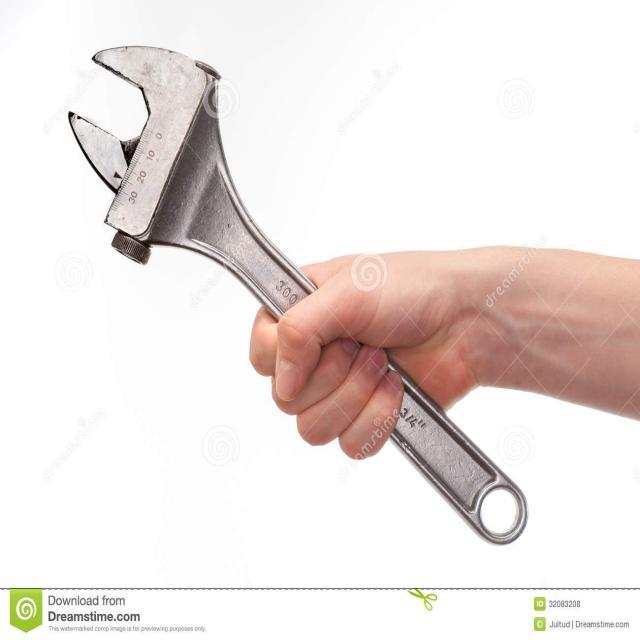wrench: (61, 42, 531, 551)
